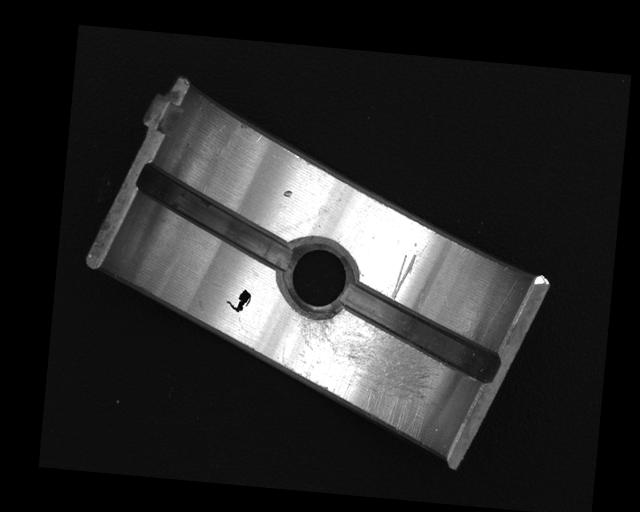blot: (225, 286, 252, 313)
bruise: (281, 188, 293, 199)
gap: (130, 163, 302, 273), (338, 283, 504, 383)
hole: (275, 237, 360, 323)
nick: (391, 250, 418, 303)
scratch: (281, 312, 438, 442)
